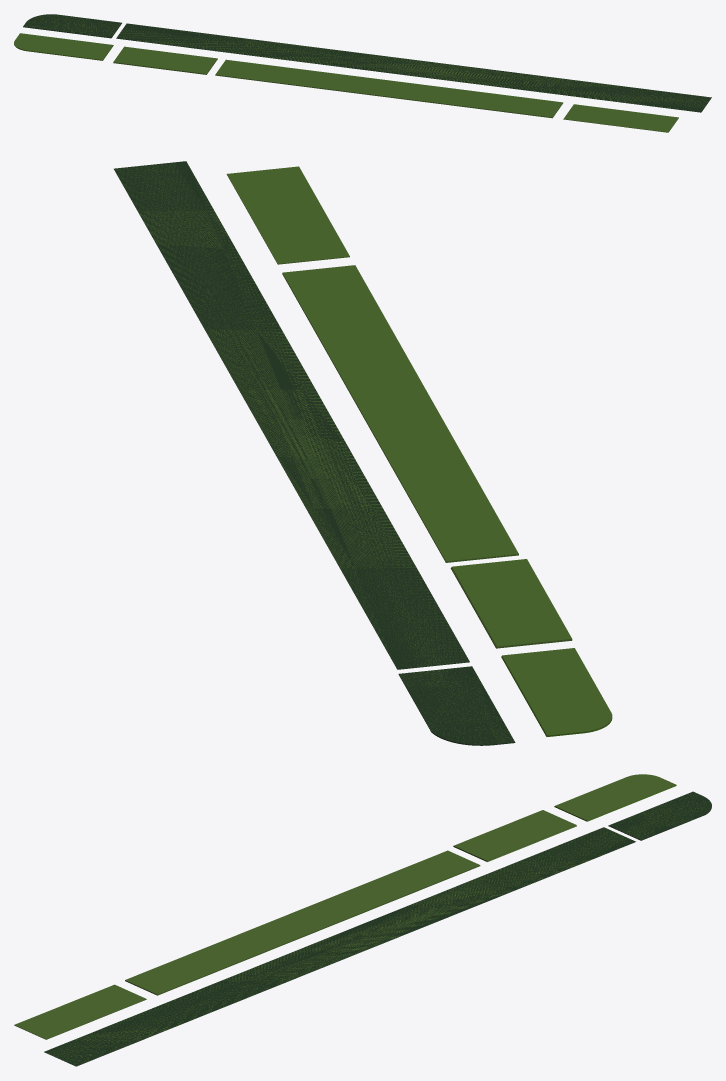
The model's file is runaway.fbx.
The picture shows the model from 3 angles, top to bottom: view 1: azimuth 30°, elevation 25°; view 2: azimuth 150°, elevation 25°; view 3: azimuth 270°, elevation 25°; orthographic projection. The views are drawn at different scales.
Visible parts, largest first — view 1: Group1; view 2: Group1; view 3: Group1.
Part boxes in pixels (x1,y1,x2,y2): Group1: [14, 14, 711, 132]; Group1: [114, 161, 612, 745]; Group1: [14, 774, 711, 1066].
Size of the model in its own units: 2217 by 9.82 by 2251.
